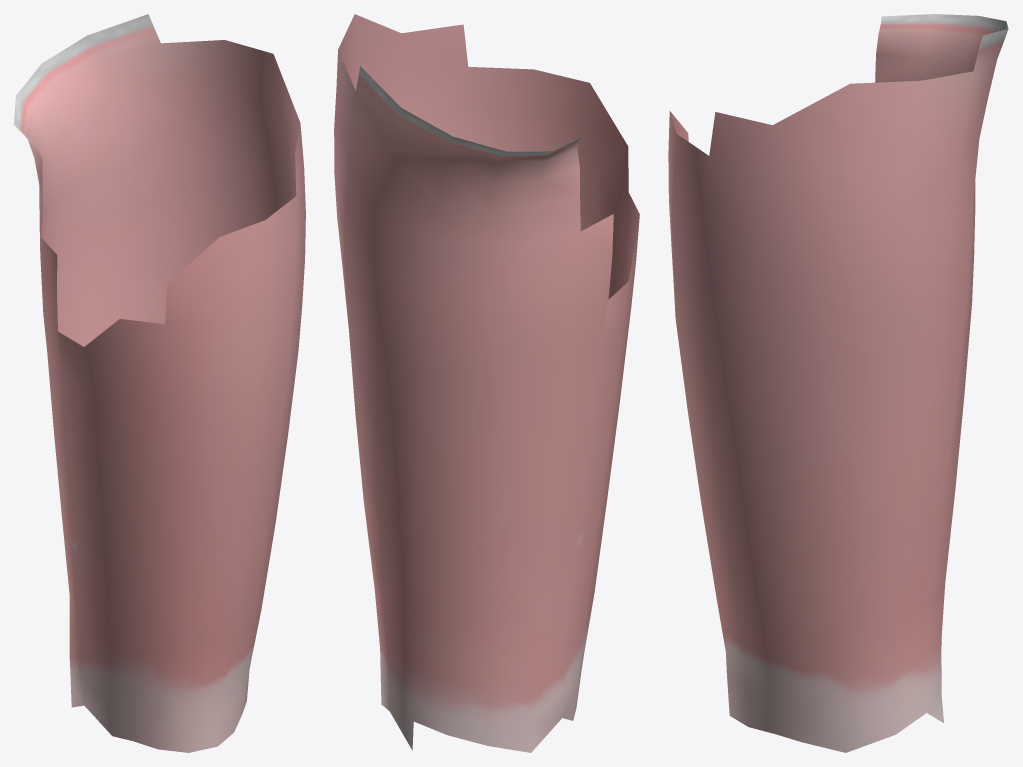
The model's file is leg_upper_L.obj.
3 renders of one model, left to right at view 1: azimuth 30°, elevation 25°; view 2: azimuth 150°, elevation 25°; view 3: azimuth 270°, elevation 25°, orthographic. The views are drawn at different scales.
Visible parts, largest first — view 1: leg_upper_L; view 2: leg_upper_L; view 3: leg_upper_L.
Part boxes in pixels (left/top/right/bottom): leg_upper_L: left=14, top=14, right=305, bottom=752; leg_upper_L: left=334, top=14, right=639, bottom=752; leg_upper_L: left=668, top=14, right=1008, bottom=752.
Bounding box in the file's own units: 0.1292 × 0.3363 × 0.1472.
1 material, 1 textured.
